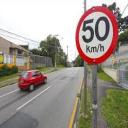speed_limit_50: (75, 6, 118, 65)
